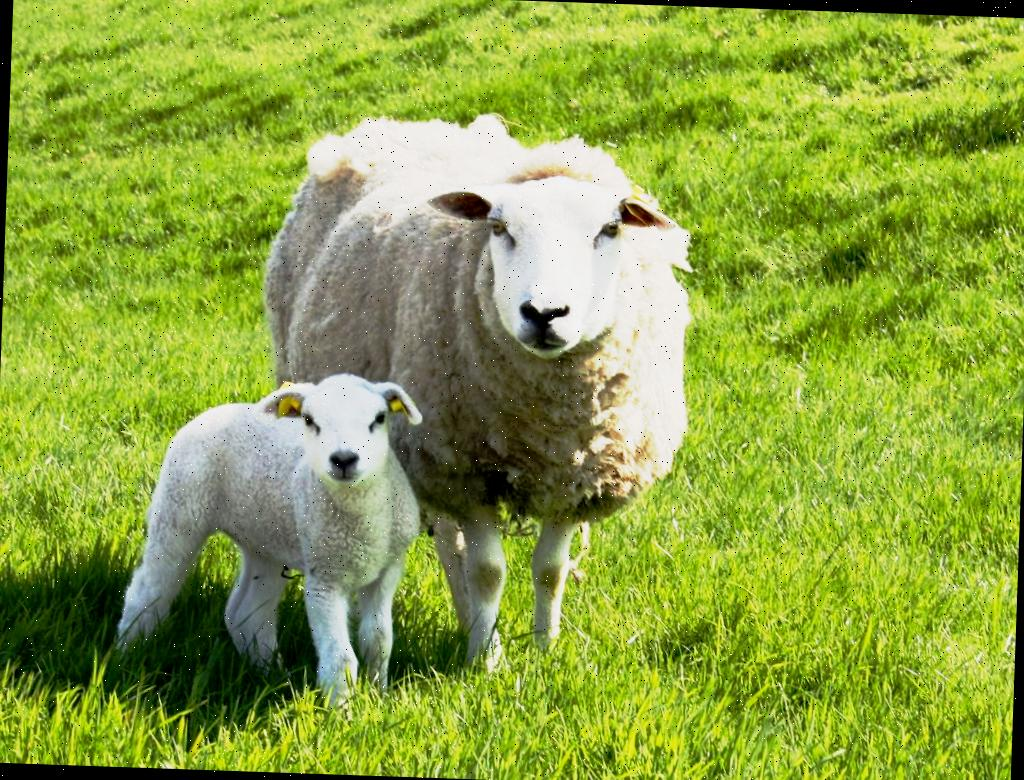Sheep: (249, 104, 699, 680), (120, 366, 456, 720)
